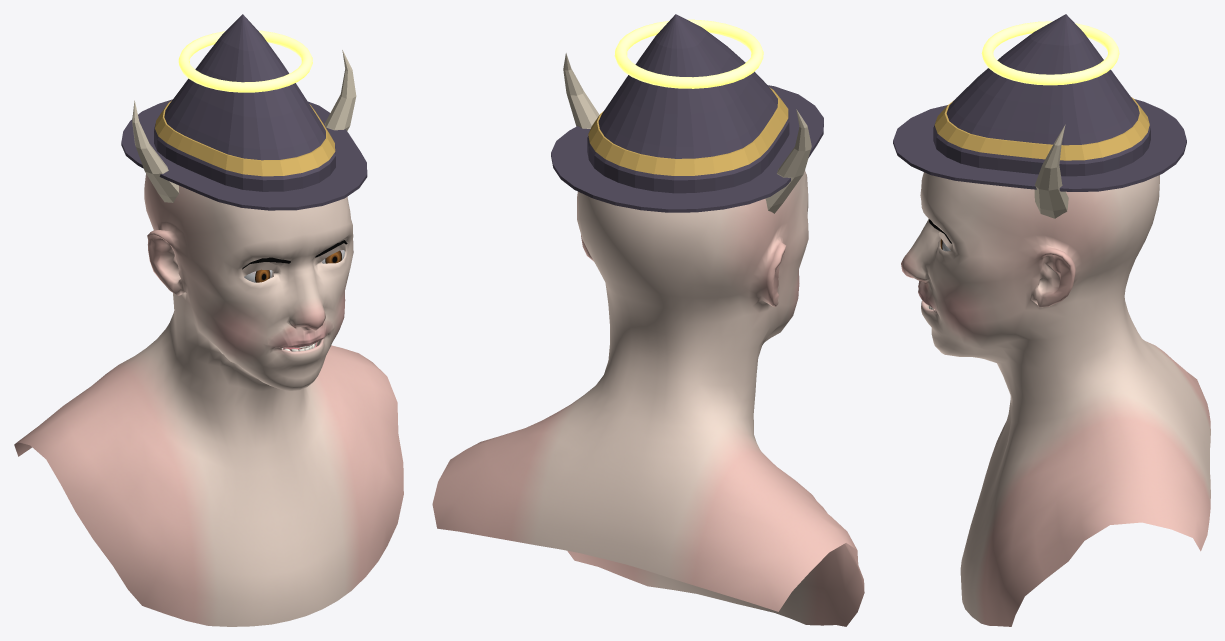
The model's file is Bust_female.glb.
The picture shows the model from 3 angles, left to right: view 1: azimuth 30°, elevation 25°; view 2: azimuth 150°, elevation 25°; view 3: azimuth 270°, elevation 25°; orthographic projection. The views are drawn at different scales.
Parts seen in each view (by area): view 1: Basemesh_F, Acc_Hat_F, Acc_Halo_F, Acc_Horns_F; view 2: Basemesh_F, Acc_Hat_F, Acc_Halo_F, Acc_Horns_F; view 3: Basemesh_F, Acc_Hat_F, Acc_Halo_F, Acc_Horns_F.
Part boxes in pixels (bbox=[...]): Basemesh_F: bbox=[14, 174, 403, 626]; Acc_Hat_F: bbox=[121, 14, 367, 210]; Acc_Halo_F: bbox=[178, 30, 312, 92]; Acc_Horns_F: bbox=[132, 50, 356, 202]; Basemesh_F: bbox=[432, 170, 864, 626]; Acc_Hat_F: bbox=[551, 14, 823, 212]; Acc_Halo_F: bbox=[614, 19, 763, 88]; Acc_Horns_F: bbox=[563, 53, 811, 213]; Basemesh_F: bbox=[901, 172, 1210, 626]; Acc_Hat_F: bbox=[893, 14, 1186, 191]; Acc_Halo_F: bbox=[981, 21, 1119, 85]; Acc_Horns_F: bbox=[1034, 124, 1068, 218].
Bounding box in the file's own units: 3.52 × 5.59 × 2.77.
13 materials, 4 textured.
